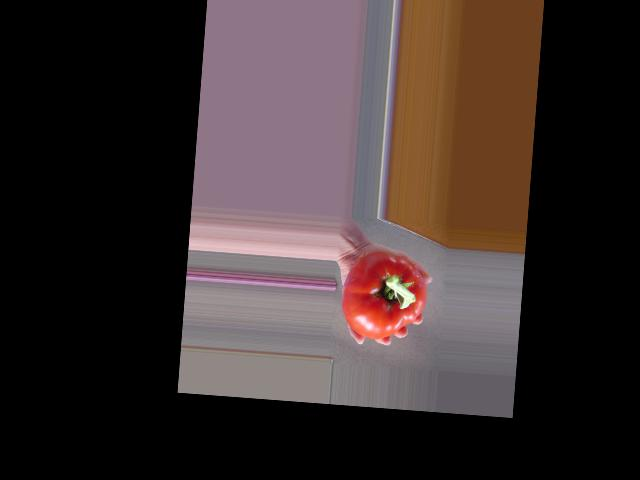tomato: (338, 249, 430, 342)
